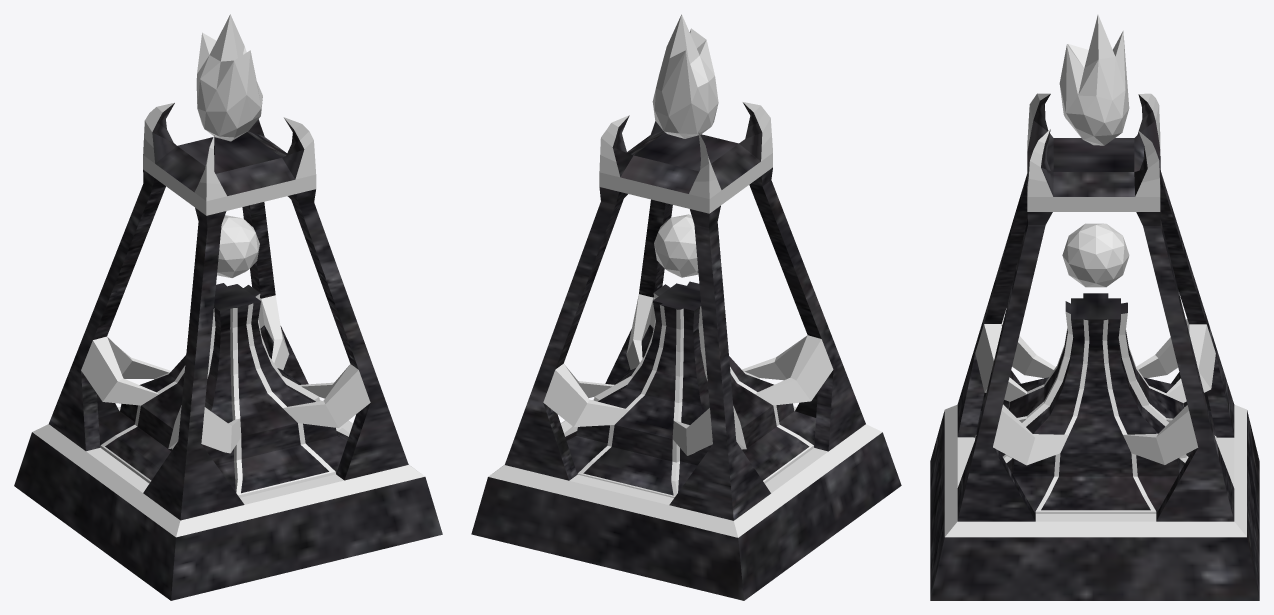
Rendered from ateş kulesi2.fbx.
The picture shows the model from 3 angles, left to right: view 1: azimuth 30°, elevation 25°; view 2: azimuth 150°, elevation 25°; view 3: azimuth 270°, elevation 25°; orthographic projection. The views are drawn at different scales.
Visible parts, largest first — view 1: Cube.001, Icosphere, Cube.002; view 2: Cube.001, Icosphere, Cube.002; view 3: Cube.001, Icosphere, Cube.002.
Boxes of the visible parts, x1,y1,x2,y2 form: Cube.001: (14,102,442,600); Icosphere: (196,14,262,141); Cube.002: (217,215,259,277); Cube.001: (471,102,901,600); Icosphere: (652,14,718,138); Cube.002: (654,214,698,277); Cube.001: (930,93,1259,600); Icosphere: (1059,14,1129,145); Cube.002: (1062,223,1129,287).
Bounding box in the file's own units: 218 × 379 × 218.
